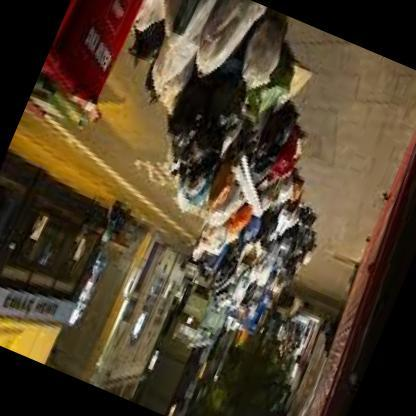Garbage: (145, 9, 327, 233), (130, 0, 316, 162), (188, 94, 322, 248), (208, 202, 314, 318), (120, 0, 211, 78)
